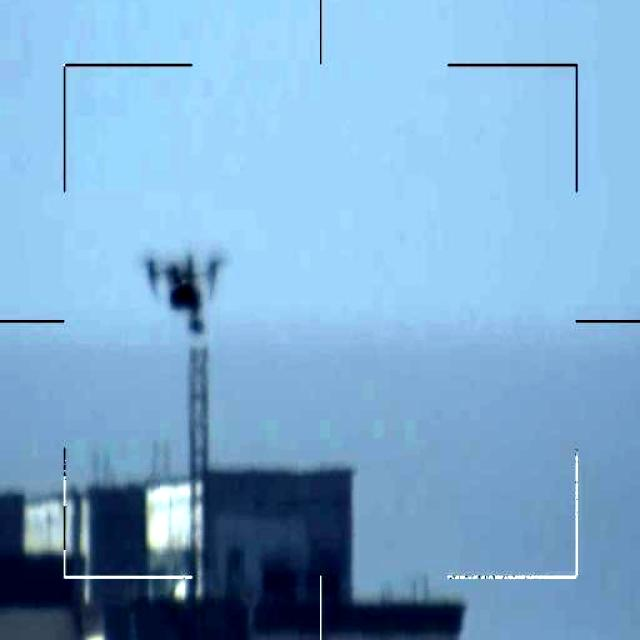bird: (144, 249, 221, 339)
